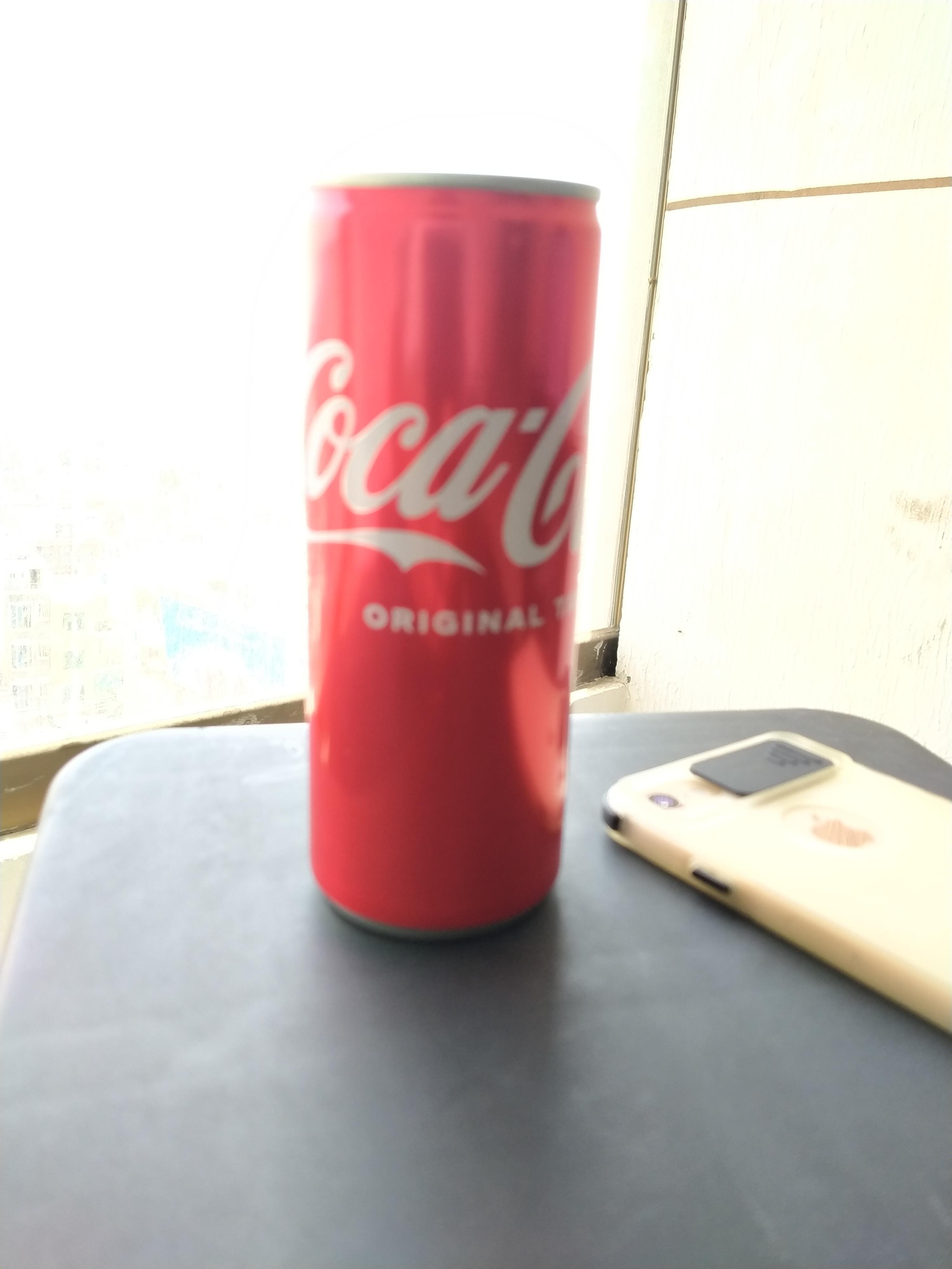tin can: (297, 161, 605, 948)
